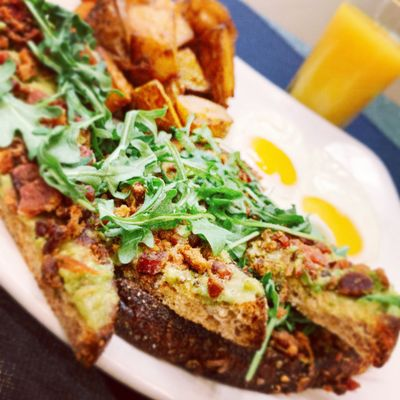soup: (75, 0, 238, 107)
